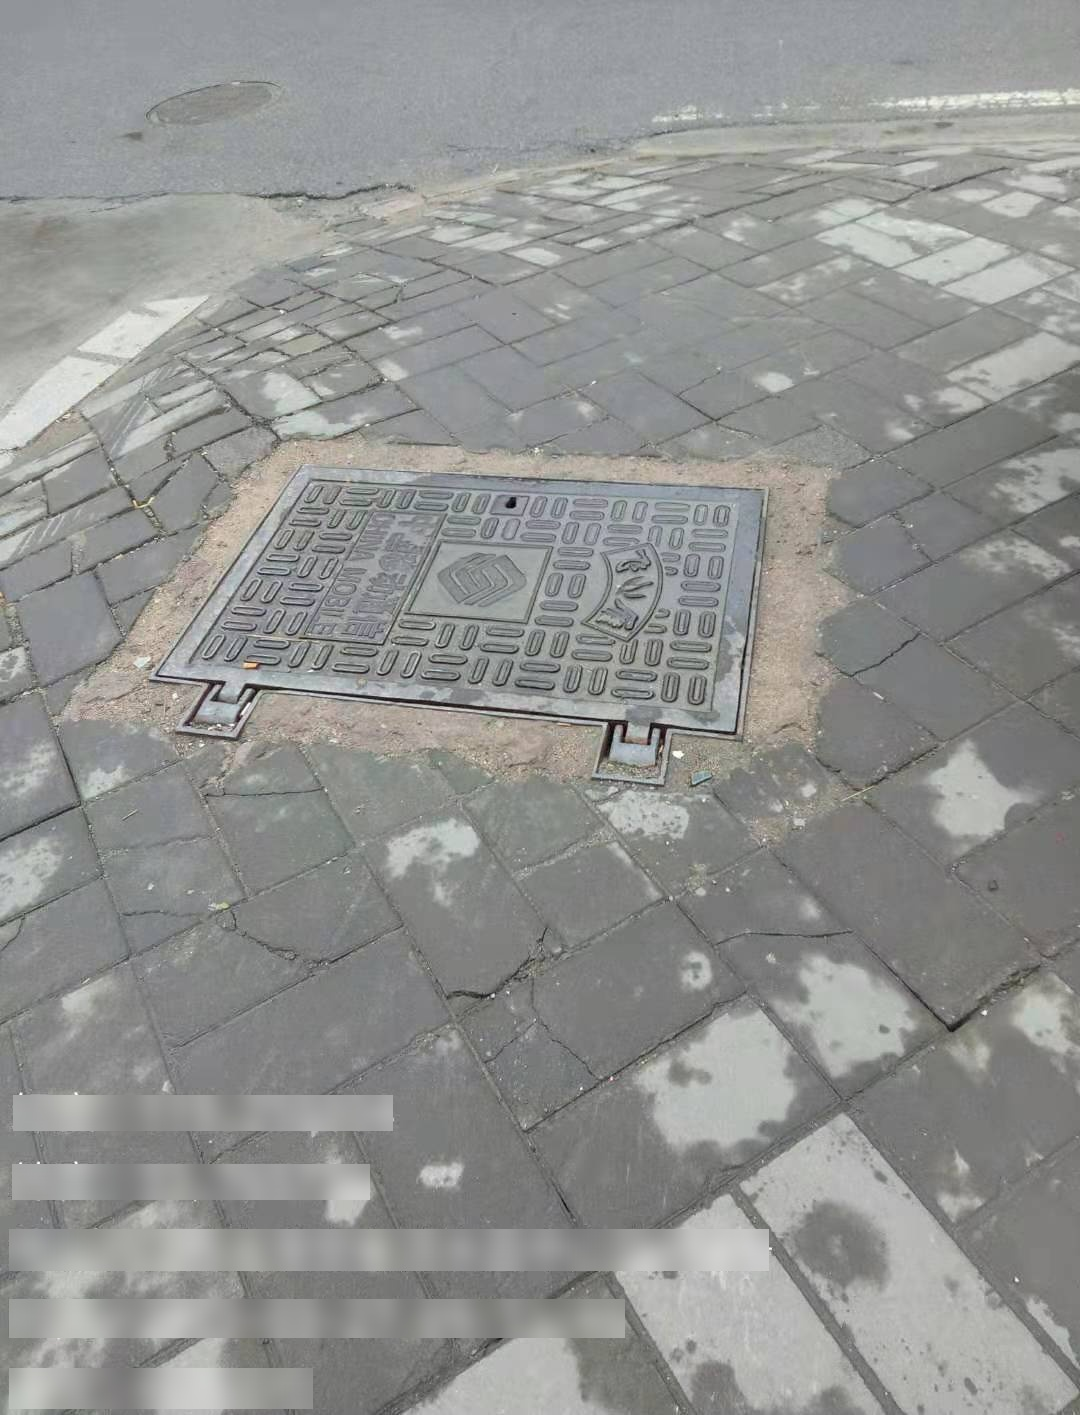good: (143, 460, 765, 789)
